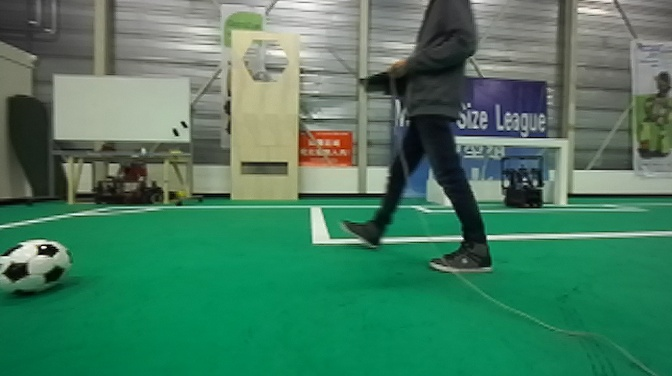ball: (1, 235, 77, 299)
goal: (440, 134, 572, 209)
goalpost: (555, 136, 571, 209)
human: (335, 1, 499, 277)
robot: (498, 154, 546, 210)
